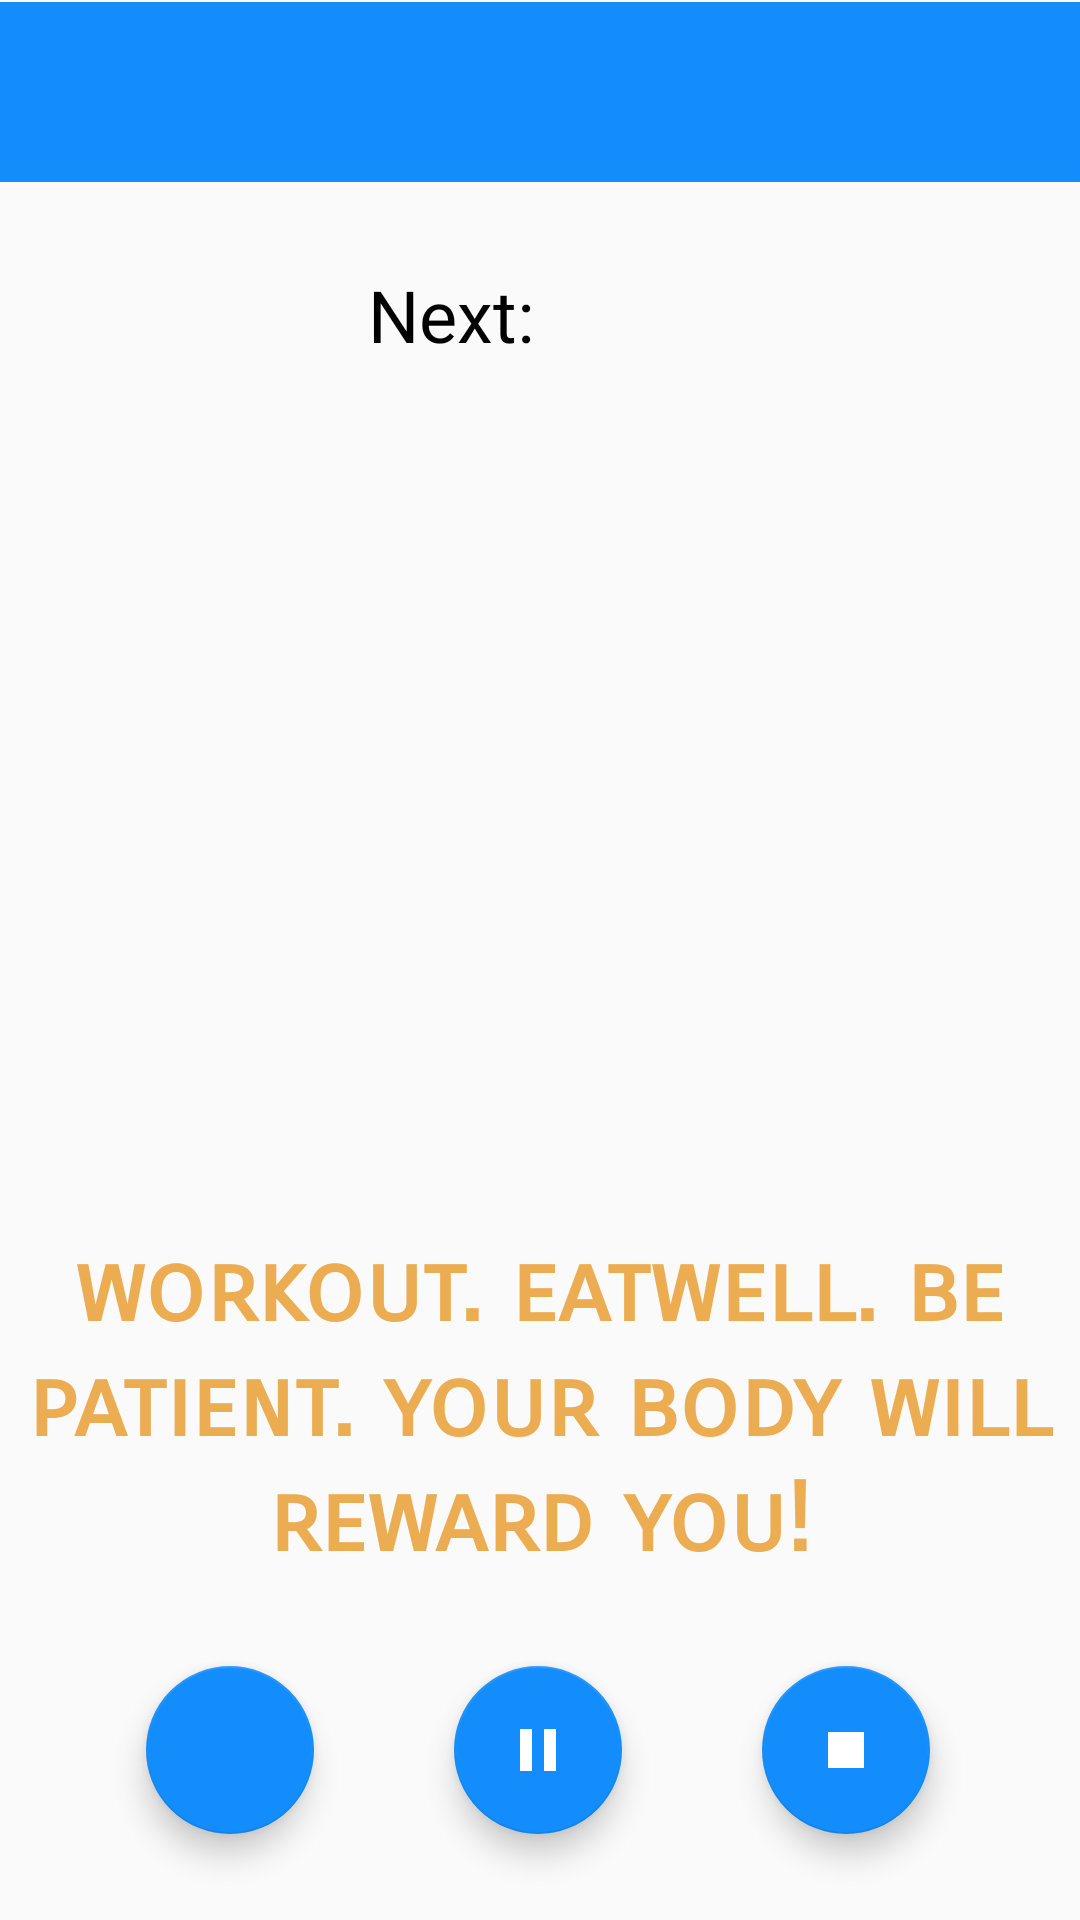

Where to tap for icons on this 1080 x 1920 app screen, as (x=x, y=y):
pause: (x=538, y=1750)
stop: (x=846, y=1750)
